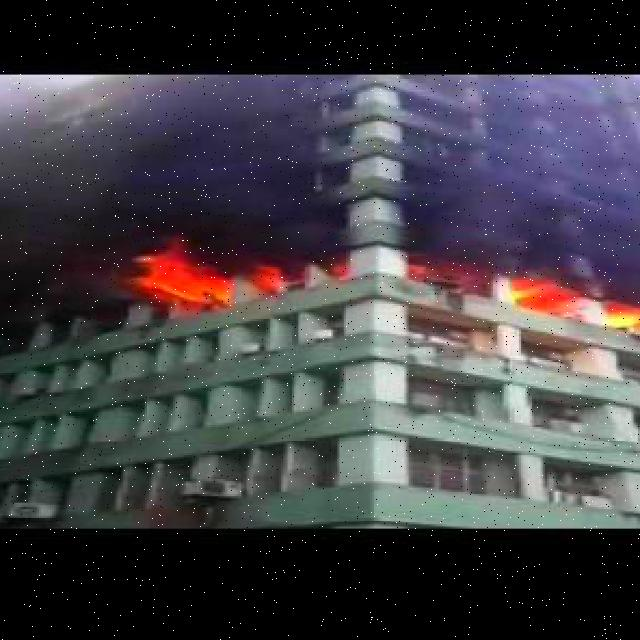fire: (119, 234, 348, 304), (493, 272, 640, 338)
smoke: (415, 124, 640, 293)
